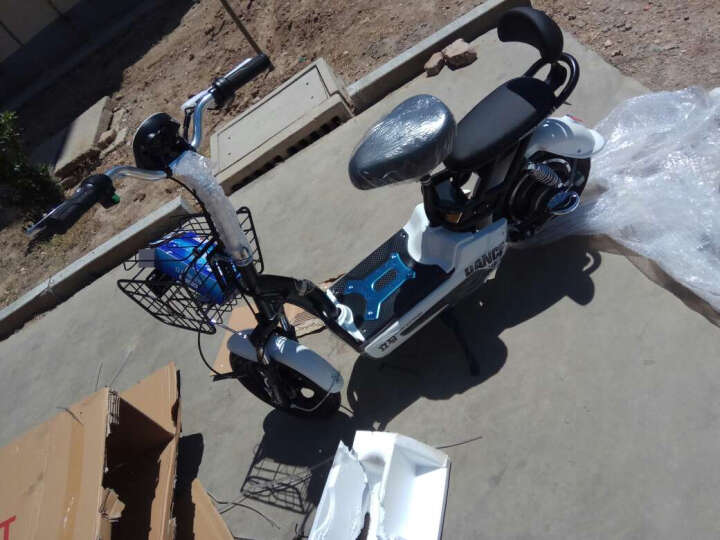电动车: (33, 53, 632, 428)
